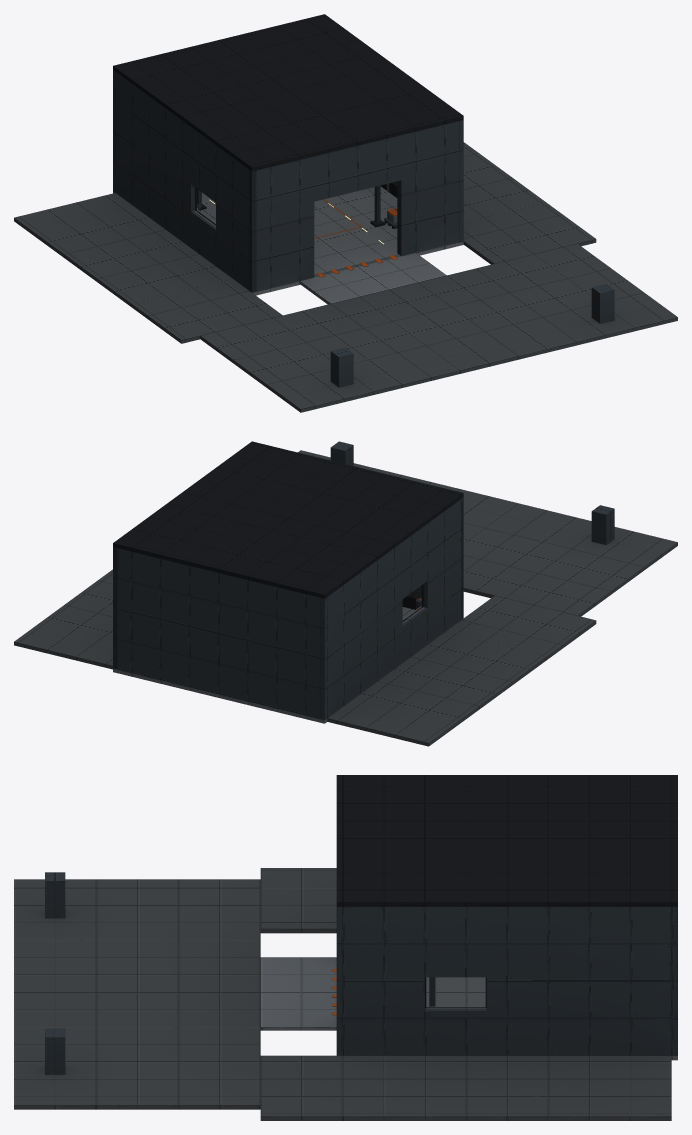
File: hangar_bay.glb
The picture shows the model from 3 angles, top to bottom: view 1: azimuth 30°, elevation 25°; view 2: azimuth 150°, elevation 25°; view 3: azimuth 270°, elevation 25°; orthographic projection. The views are drawn at different scales.
Parts seen in each view (by area): view 1: hangar_structure, ceiling, floor; view 2: hangar_structure, ceiling, floor; view 3: hangar_structure, ceiling, floor.
Part boxes in pixels (x1,y1,x2,y2): hangar_structure: (14, 70, 677, 412); ceiling: (113, 14, 463, 171); floor: (113, 186, 463, 295); hangar_structure: (14, 441, 677, 746); ceiling: (113, 441, 463, 598); floor: (113, 607, 415, 723); hangar_structure: (14, 868, 677, 1120); ceiling: (336, 775, 677, 906); floor: (426, 977, 677, 1060).
Bounding box in the file's own units: 28.6 × 8.5 × 32.3.
Materials: 1 (1 with a texture image).
